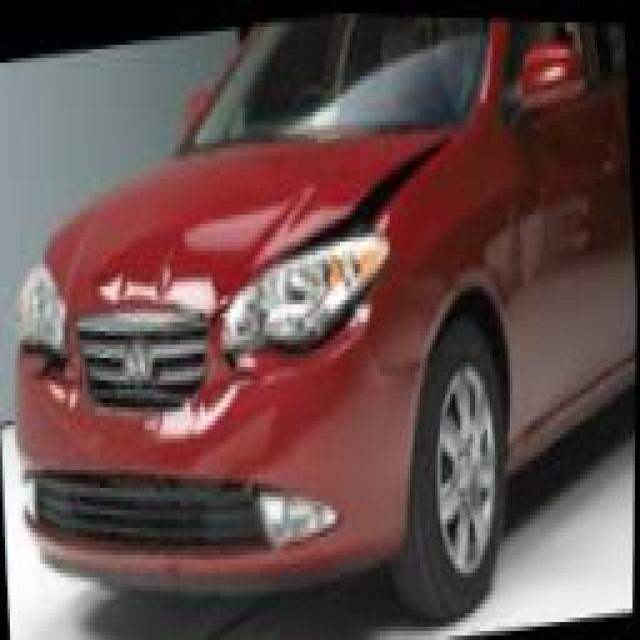Bonnet: (93, 122, 449, 309)
Light: (224, 236, 383, 358), (9, 257, 75, 373)
